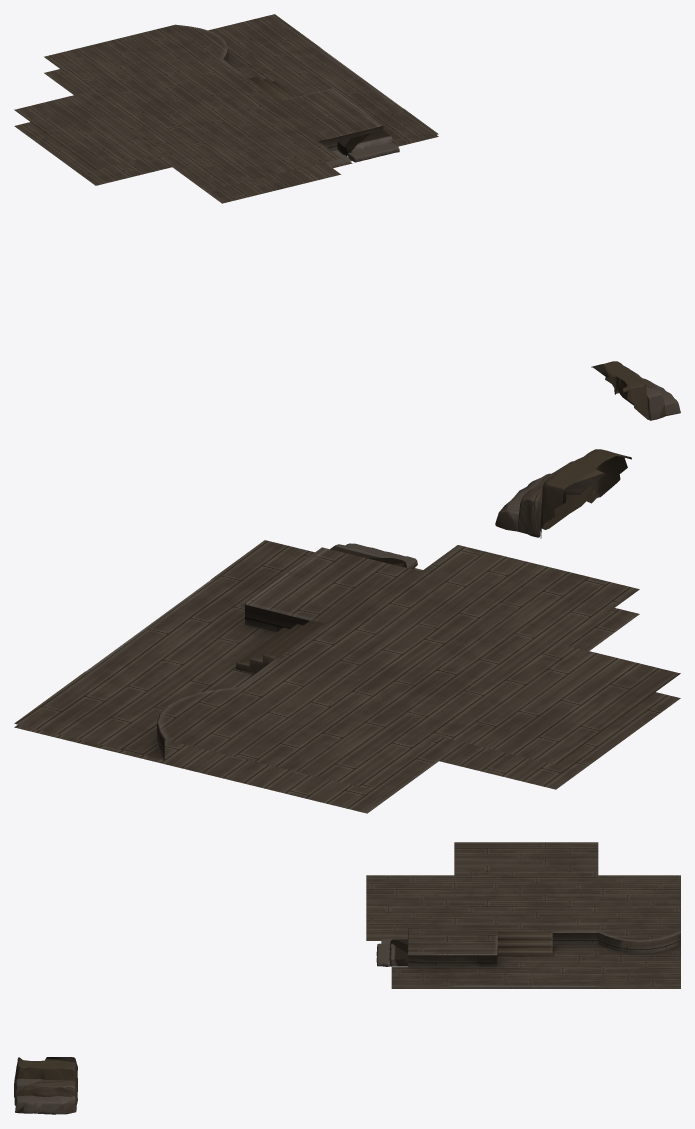
File: m_FloorStairs_low.fbx
3 views of the same model, one above another, from view 1: azimuth 30°, elevation 25°; view 2: azimuth 150°, elevation 25°; view 3: azimuth 270°, elevation 25° (orthographic). The views are drawn at different scales.
Visible parts, largest first — view 1: Floor, Cube_0342, Cube_0362, Cube_0322; view 2: Floor, Cube_0342, WoodStairs, Cube_0322, Cube_0312, Cube_0362; view 3: Floor, Cube_0342, WoodStairs, Cube_0312, Cube_0322, Cube_0362.
Boxes of the visible parts, x1,y1,x2,y2 form: Floor: [14, 14, 438, 203]; Cube_0342: [591, 361, 648, 419]; Cube_0362: [337, 130, 392, 156]; Cube_0322: [616, 371, 665, 420]; Floor: [14, 540, 680, 813]; Cube_0342: [540, 449, 631, 538]; WoodStairs: [236, 620, 323, 673]; Cube_0322: [517, 461, 595, 537]; Cube_0312: [495, 473, 550, 531]; Cube_0362: [330, 544, 406, 567]; Floor: [366, 842, 680, 988]; Cube_0342: [14, 1057, 77, 1097]; WoodStairs: [497, 932, 552, 955]; Cube_0312: [15, 1095, 76, 1114]; Cube_0322: [14, 1078, 77, 1105]; Cube_0362: [389, 939, 407, 966].
Size of the model in its own units: 693 by 281 by 1340.
